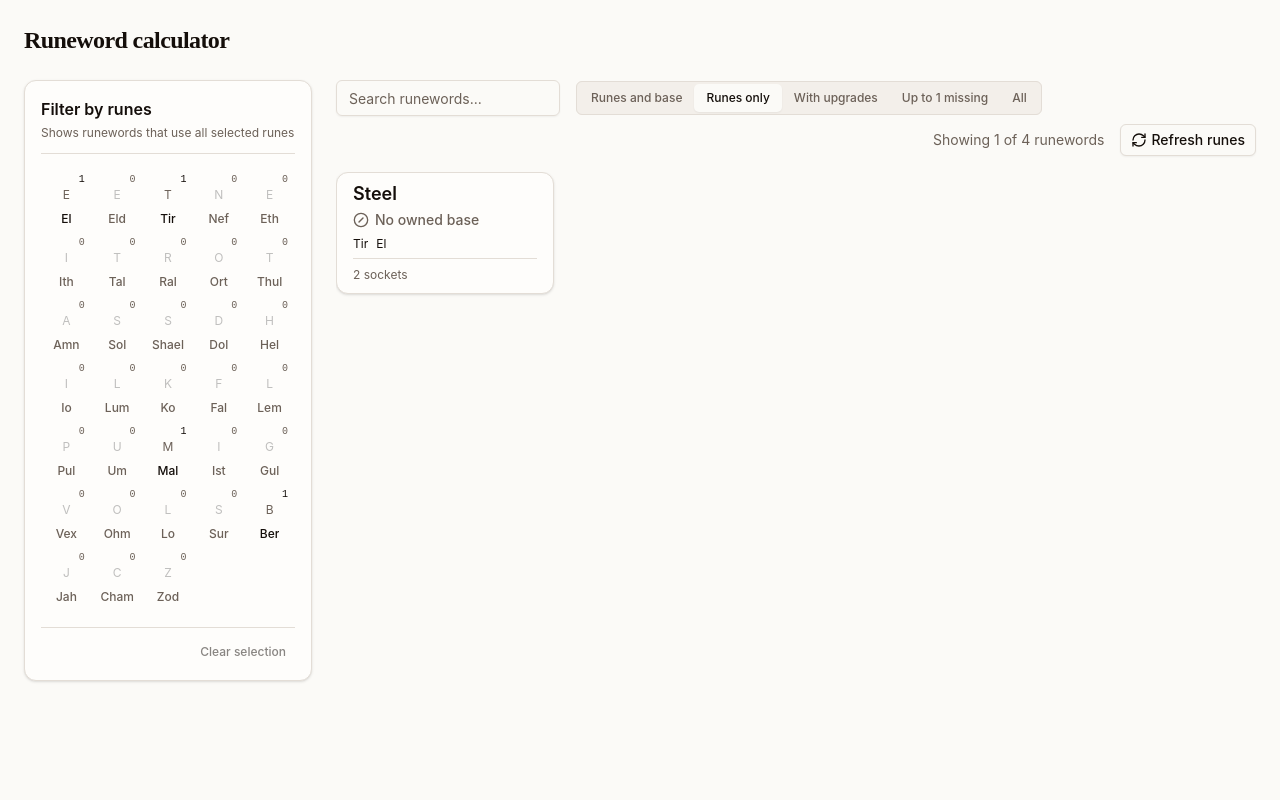
Scenario: RunewordCalculator › runeword cards › When All is selected, then cards missing runes name them and craftable cards show no rune count
Check: the text "Showing 1 of 4 runewords" is shown, box x1=933 y1=130 x2=1104 y2=150
Click the button "All" at (1020, 98), box x1=1000 y1=84 x2=1039 y2=112
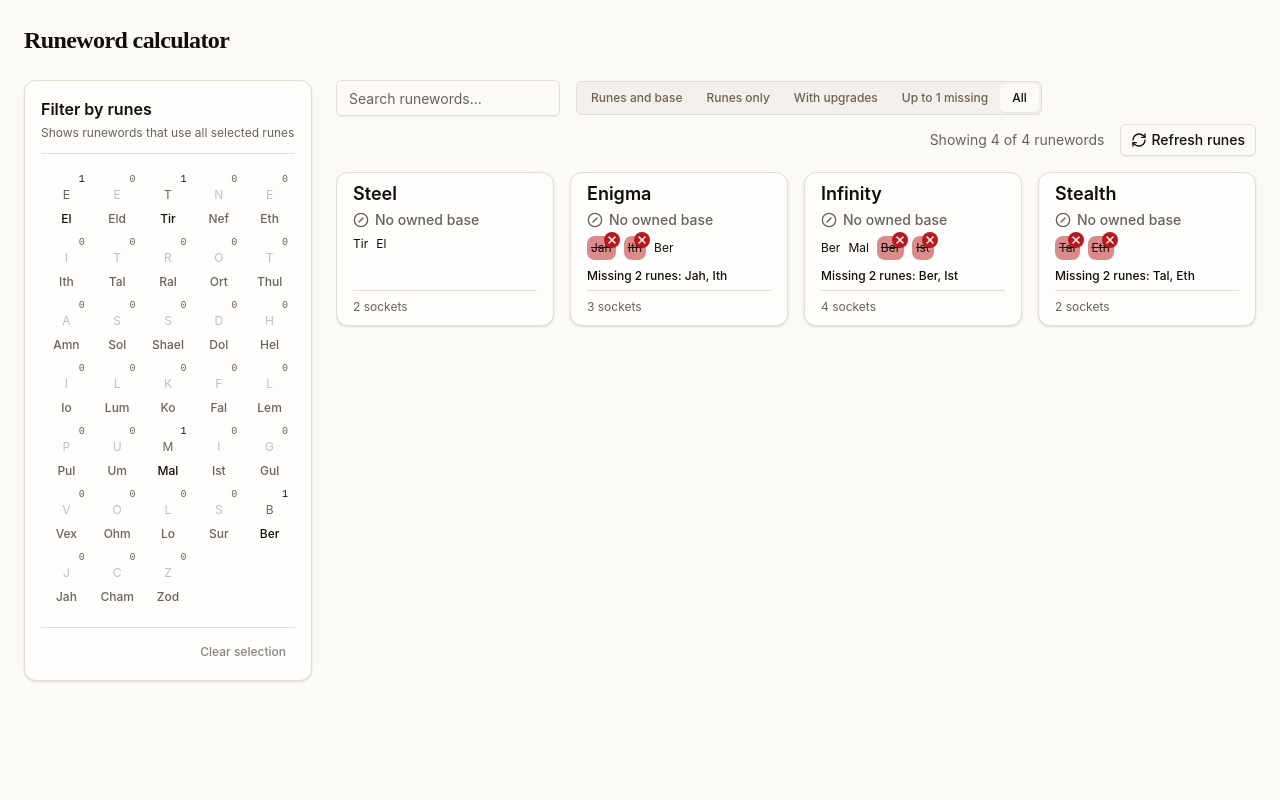
Check: the text "Missing 2 runes: Ber, Ist" is shown, box x1=821 y1=268 x2=958 y2=284
